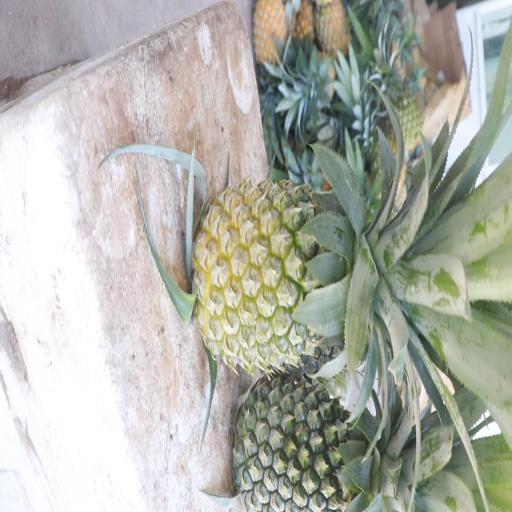Pineapple - v8 v1: (198, 179, 406, 375), (248, 0, 290, 70), (312, 0, 352, 62)
